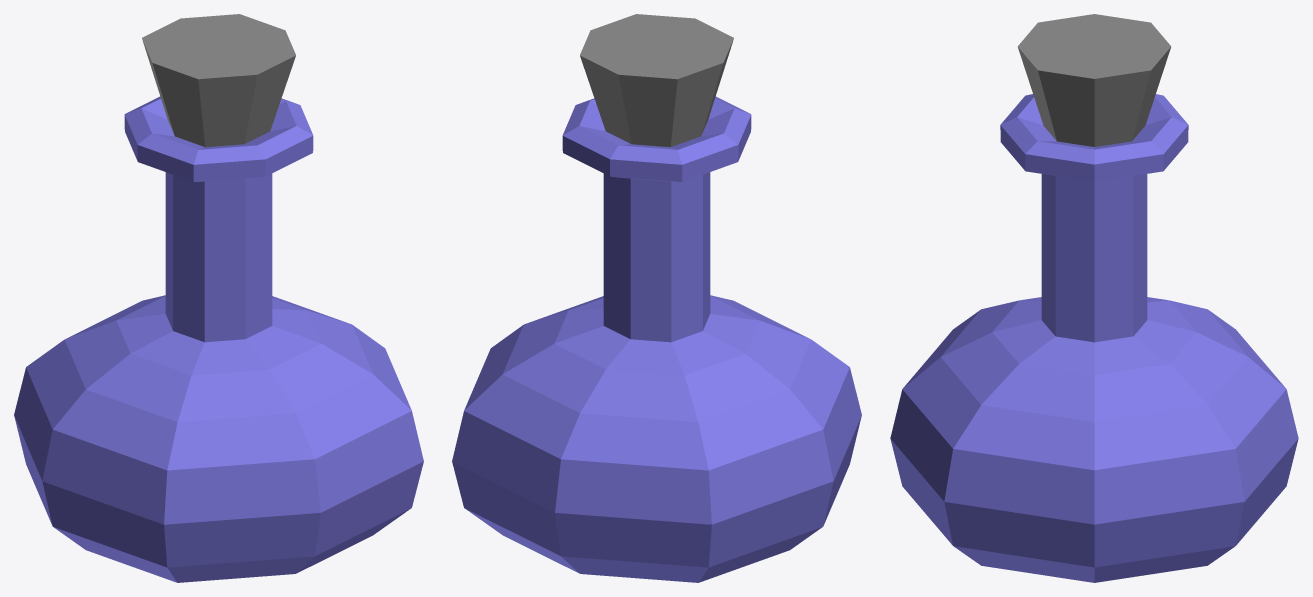
The model's file is potion.fbx.
3 renders of one model, left to right at view 1: azimuth 30°, elevation 25°; view 2: azimuth 150°, elevation 25°; view 3: azimuth 270°, elevation 25°, orthographic.
Visible parts, largest first — view 1: Box001; view 2: Box001; view 3: Box001.
Part boxes in pixels (x1,y1,x2,y2): Box001: (14, 14, 423, 582); Box001: (452, 14, 861, 582); Box001: (890, 14, 1298, 582).
Bounding box in the file's own units: 107 × 141 × 107.
